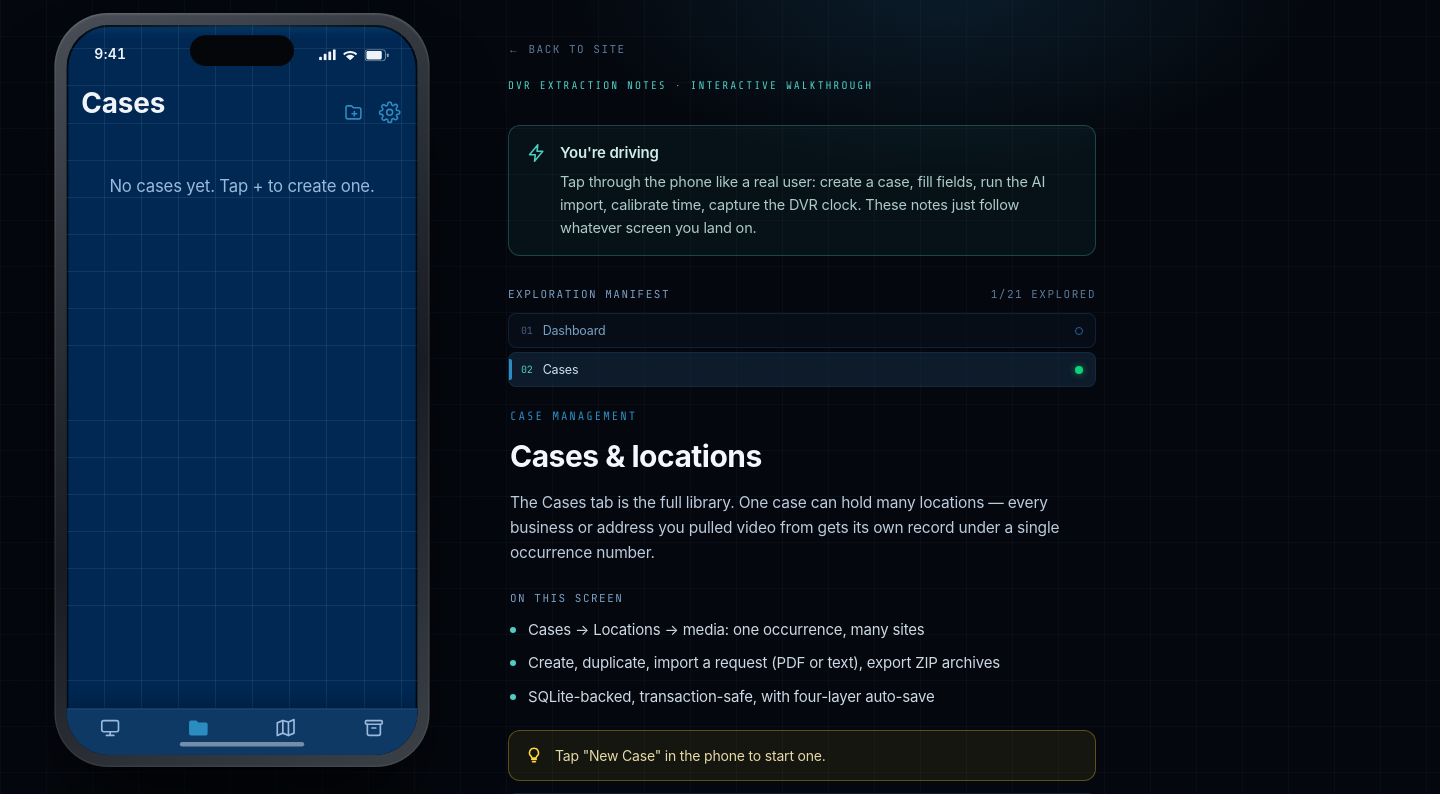
Test case: Settings entry points (phone MainHeader gear on BOTH tab headers) › opens from the Cases header
Click the button with test id "header-settings-button" at point(390, 112), box [377, 99, 403, 125]
(page scrolled)
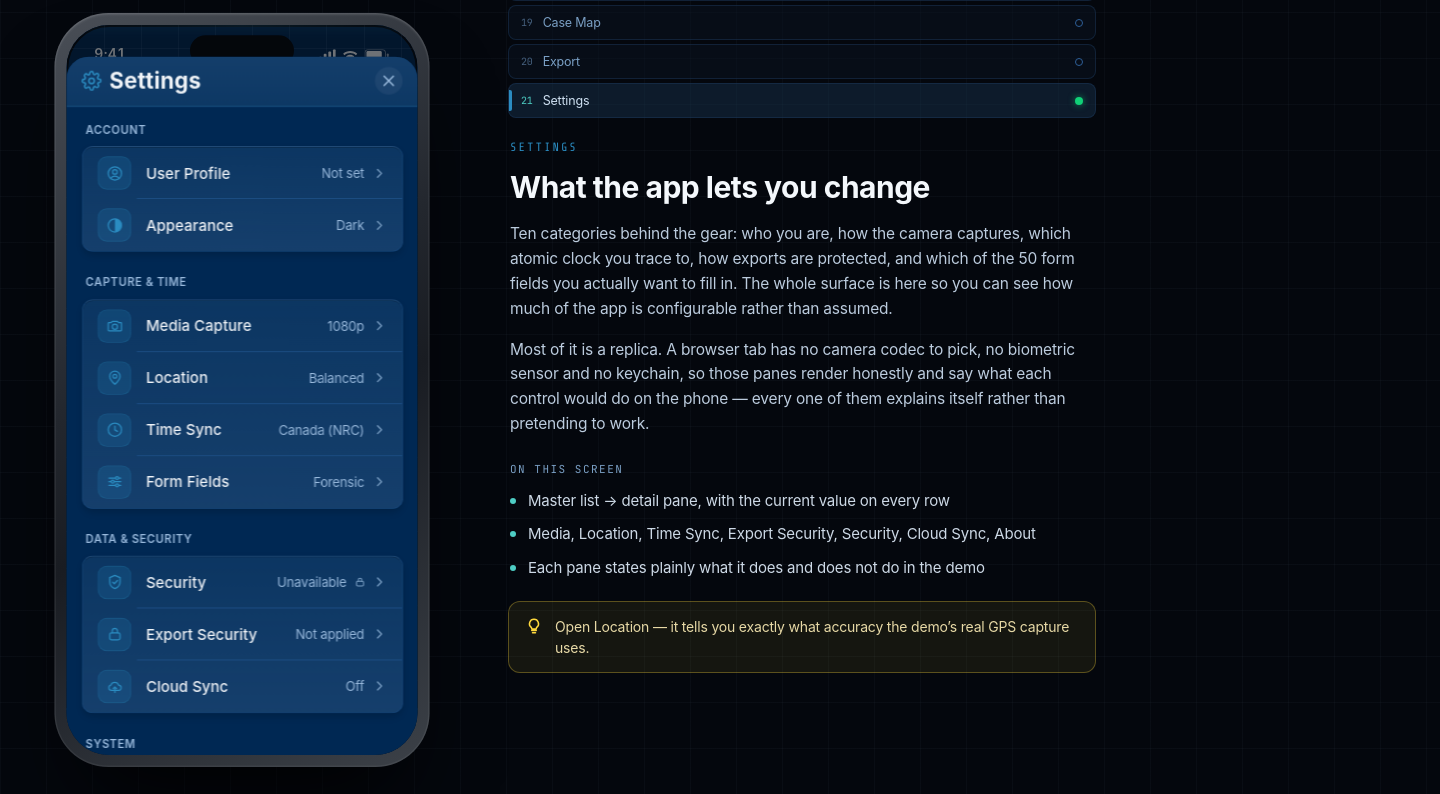
Check: the dialog "Settings" is shown, box [66, 57, 418, 755]
